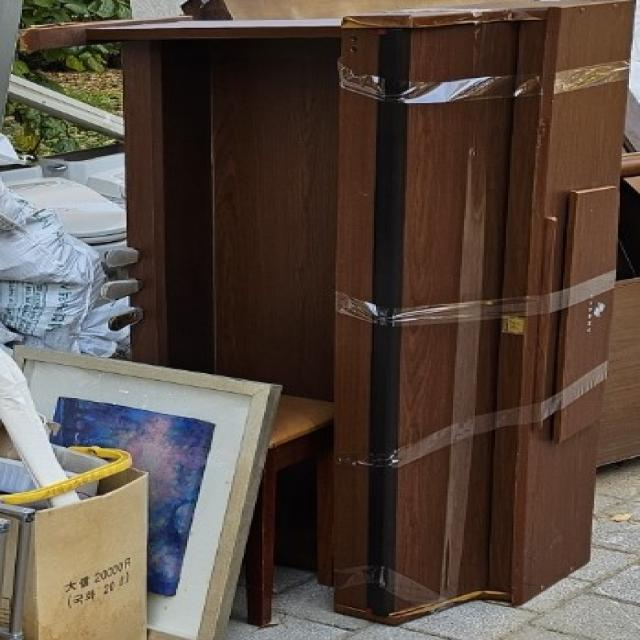Large Waste Items: (38, 0, 626, 631)
